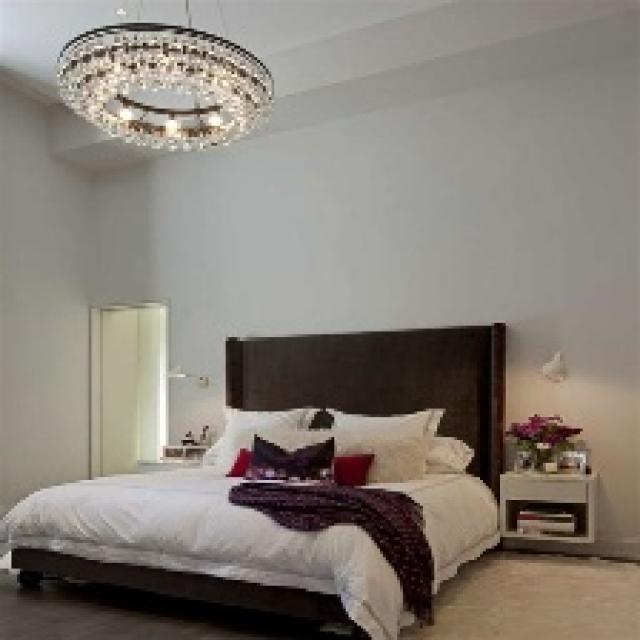Bed: (0, 320, 506, 637)
